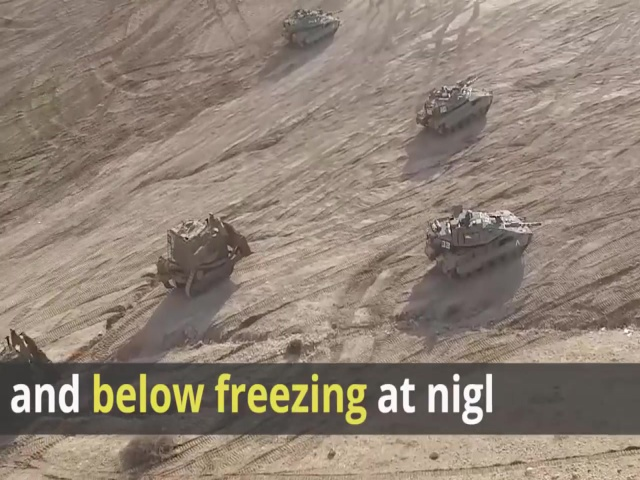vehicle: (423, 207, 531, 281), (159, 214, 250, 298), (416, 81, 493, 135), (281, 7, 339, 48)
